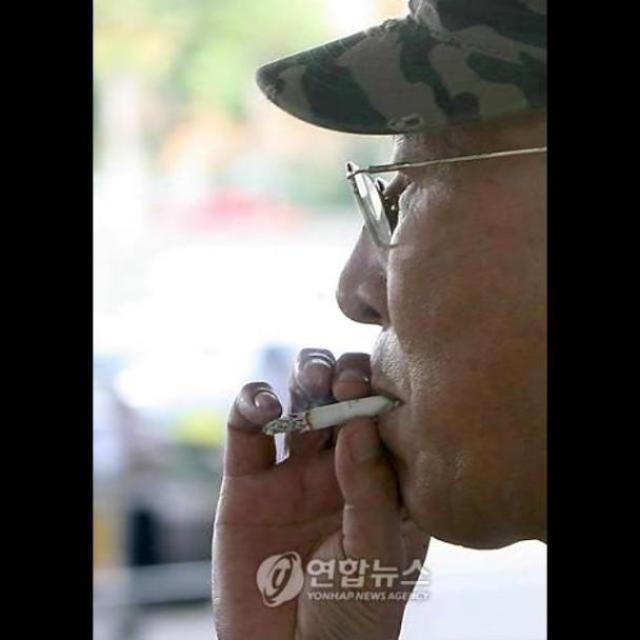rokok: (260, 393, 394, 439)
